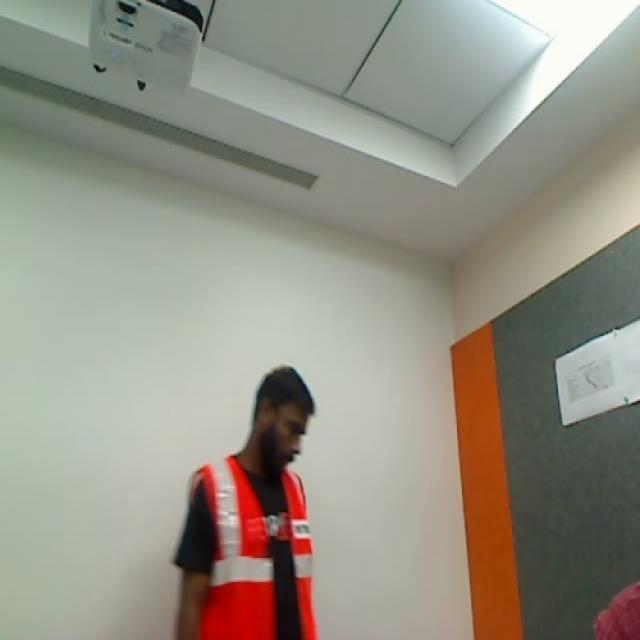safety_helmet: (180, 455, 318, 640)
